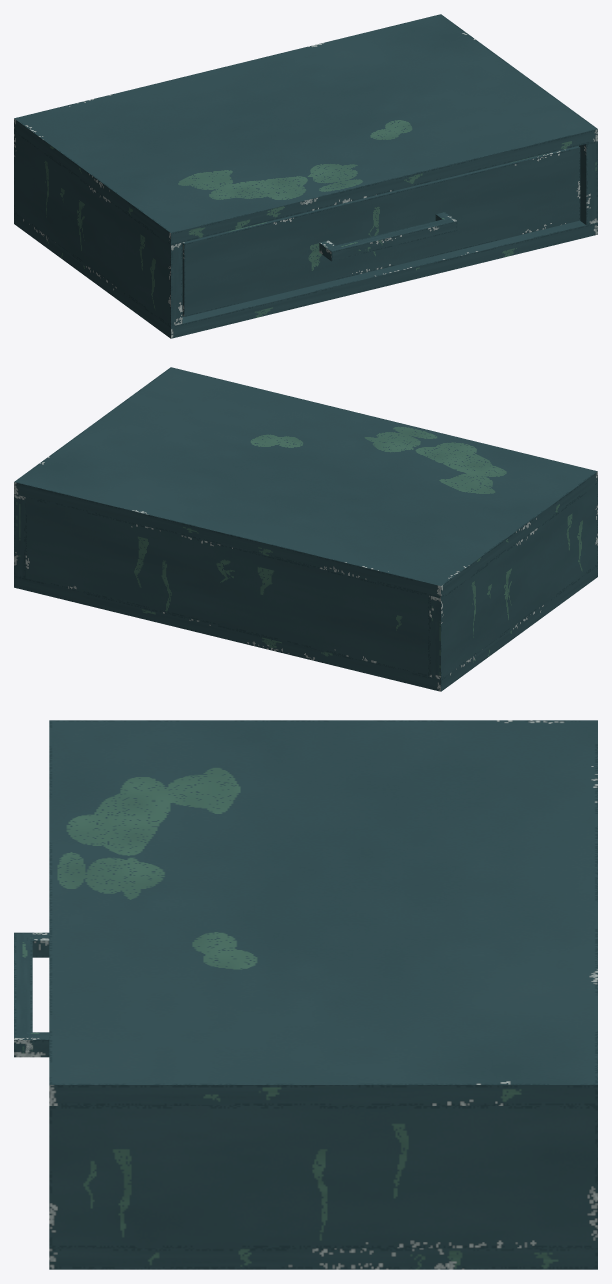
File: SM_Hub_Workbench_Drawer.glb
The picture shows the model from 3 angles, top to bottom: view 1: azimuth 30°, elevation 25°; view 2: azimuth 150°, elevation 25°; view 3: azimuth 270°, elevation 25°; orthographic projection. The views are drawn at different scales.
Parts seen in each view (by area): view 1: SM_Hub_Workbench_Drawer_Casing, SM_Hub_Workbench_Drawer_Tray; view 2: SM_Hub_Workbench_Drawer_Casing; view 3: SM_Hub_Workbench_Drawer_Casing, SM_Hub_Workbench_Drawer_Tray.
Boxes of the visible parts, <box> form: SM_Hub_Workbench_Drawer_Casing: <box>14,14,597,338</box>; SM_Hub_Workbench_Drawer_Tray: <box>182,146,580,316</box>; SM_Hub_Workbench_Drawer_Casing: <box>14,367,597,691</box>; SM_Hub_Workbench_Drawer_Casing: <box>49,720,597,1269</box>; SM_Hub_Workbench_Drawer_Tray: <box>14,932,49,1057</box>.
Size of the model in its own units: 1.1 by 0.26 by 0.745.
2 materials, 2 textured.
